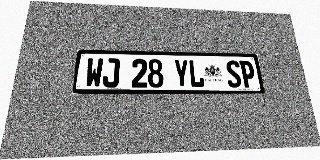2: (131, 59, 147, 88)
8: (148, 59, 163, 88)
J: (102, 58, 120, 88)
L: (188, 60, 205, 88)
P: (239, 61, 257, 88)
S: (225, 60, 242, 88)
W: (85, 58, 103, 88)
Y: (173, 59, 189, 88)
